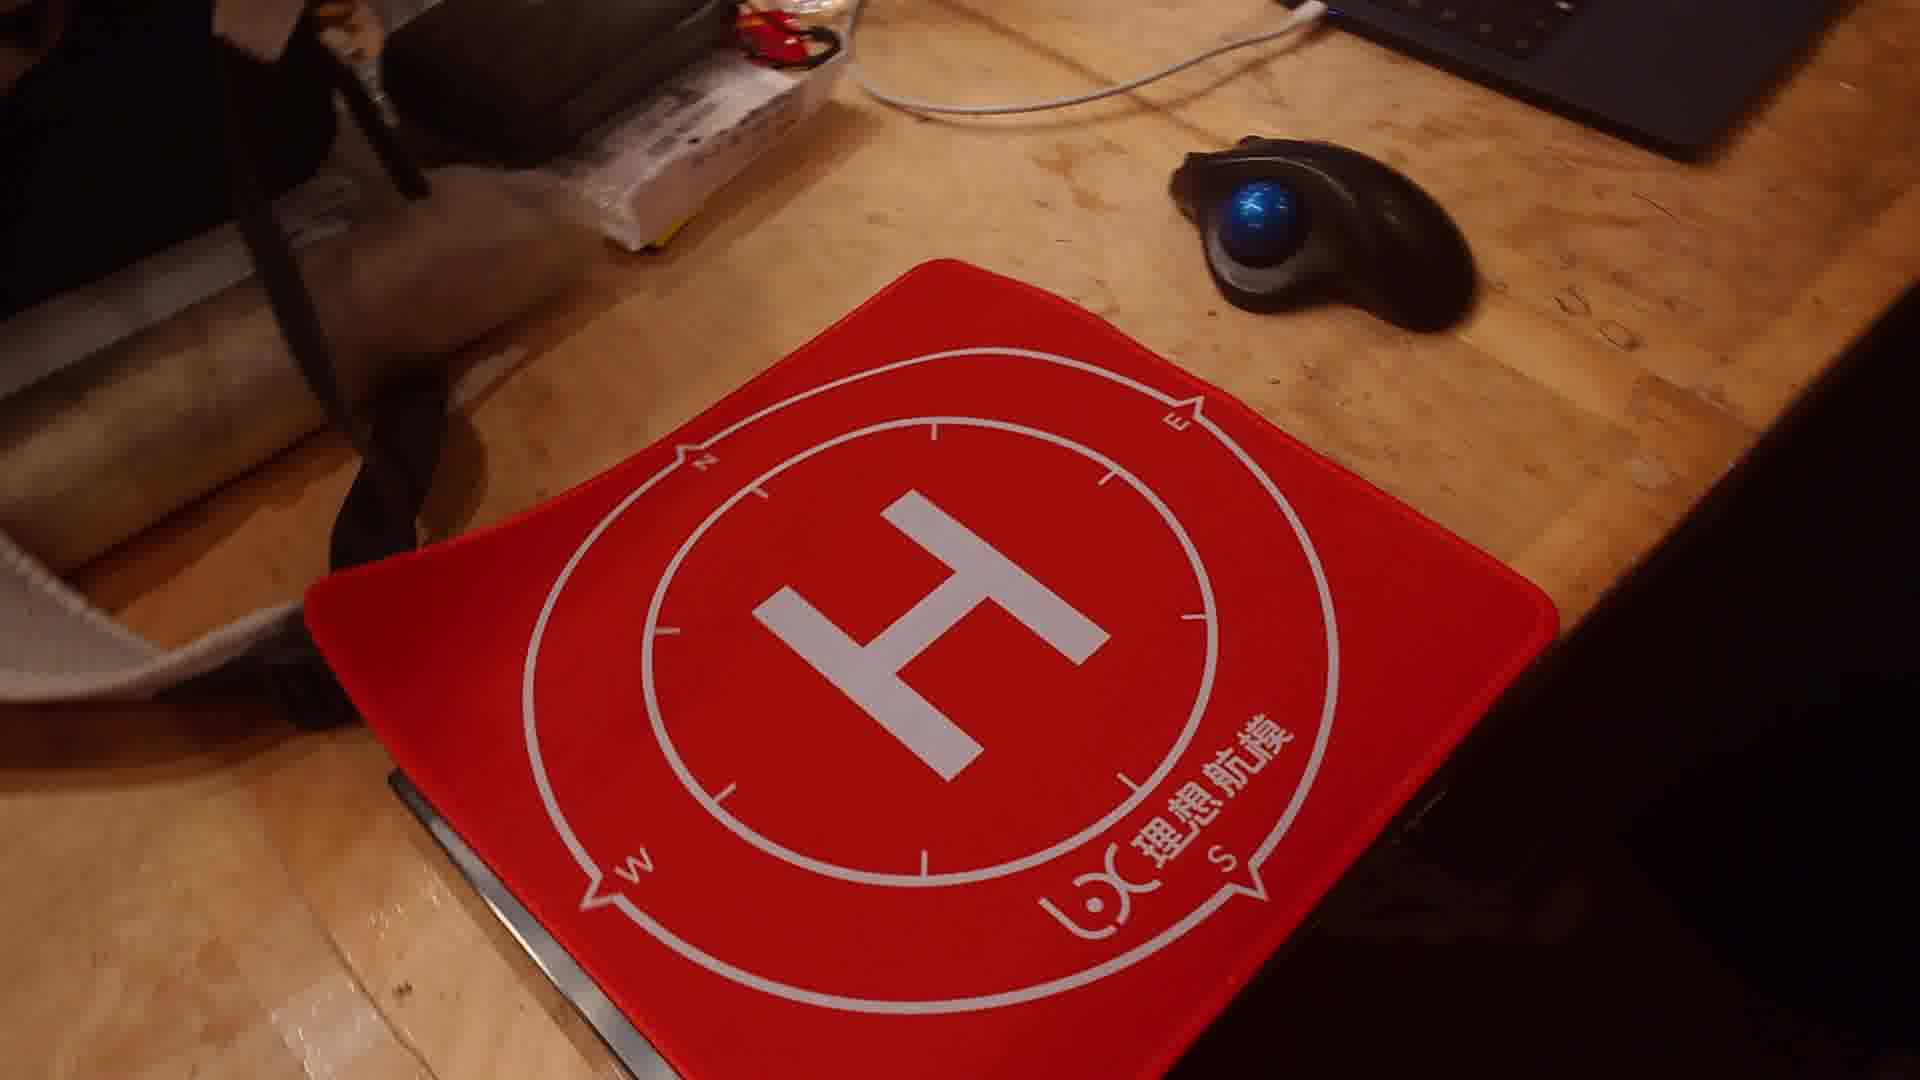H: (750, 487, 1114, 785)
